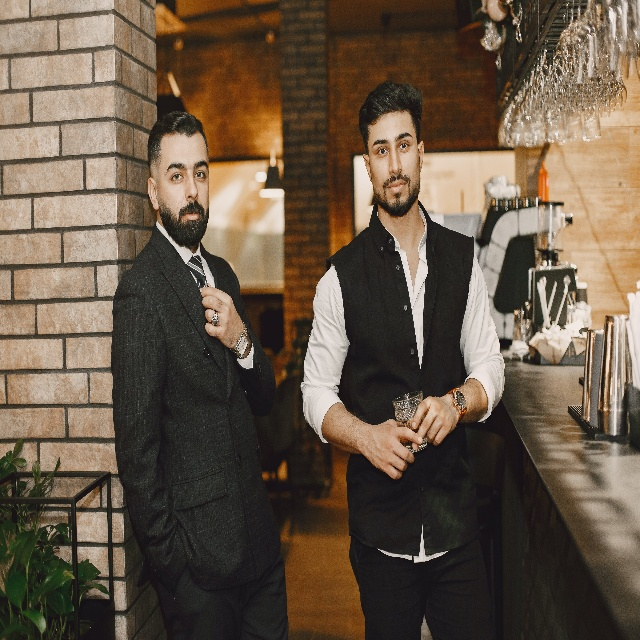Sin_guantes: (368, 418, 423, 481), (409, 391, 458, 451), (199, 280, 240, 350)
